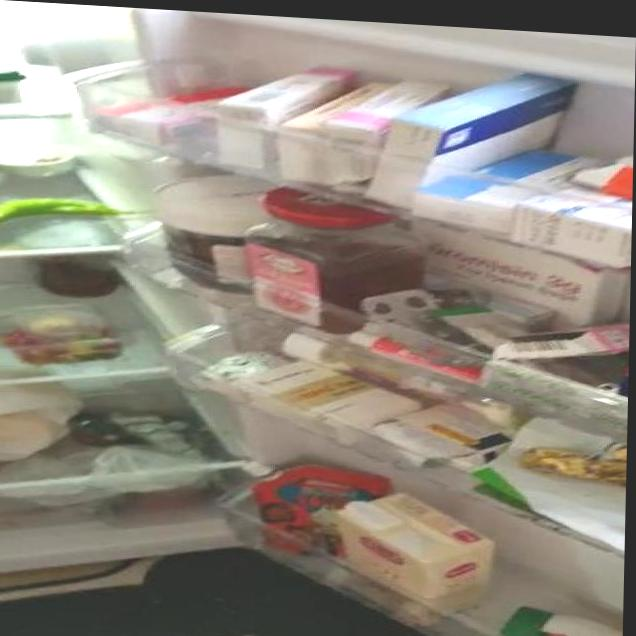green chilies: (0, 196, 122, 229)
milk: (342, 492, 484, 602)
